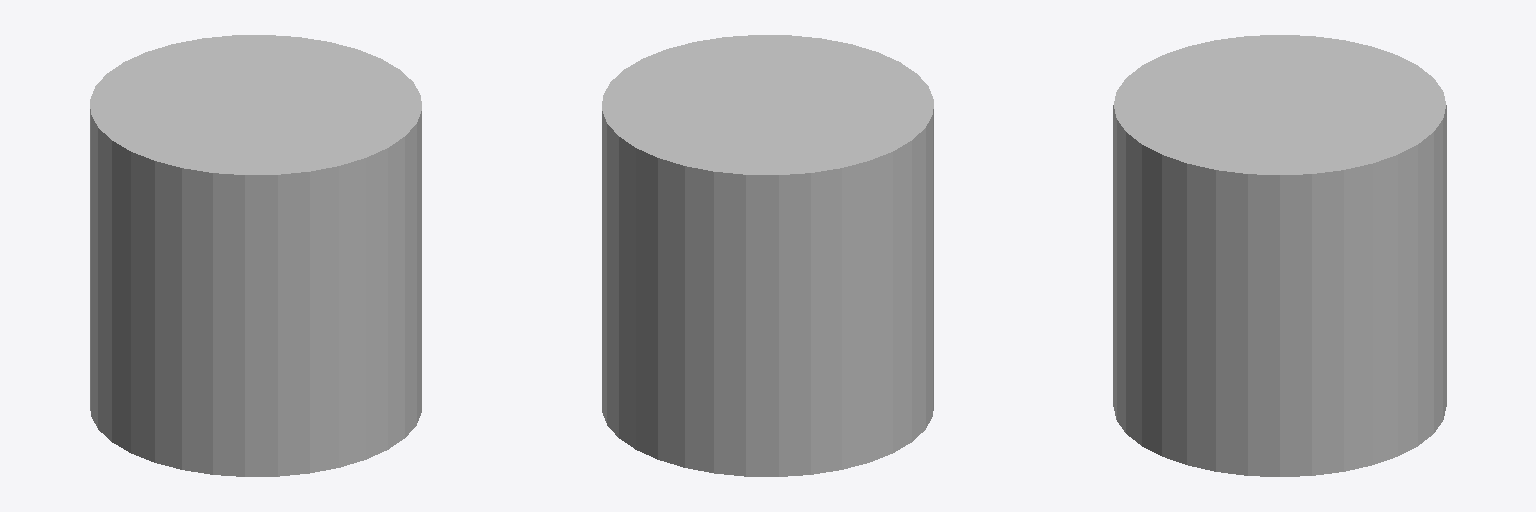
File: pelota.obj
The picture shows the model from 3 angles: view 1: azimuth 30°, elevation 25°; view 2: azimuth 150°, elevation 25°; view 3: azimuth 270°, elevation 25°; orthographic projection.
Parts seen in each view (by area): view 1: Cylinder; view 2: Cylinder; view 3: Cylinder.
Part boxes in pixels (left/top/right/bottom): Cylinder: left=90, top=35, right=421, bottom=476; Cylinder: left=602, top=35, right=933, bottom=476; Cylinder: left=1113, top=35, right=1446, bottom=476.
Bounding box in the file's own units: 0.0208 × 0.0208 × 0.0208.